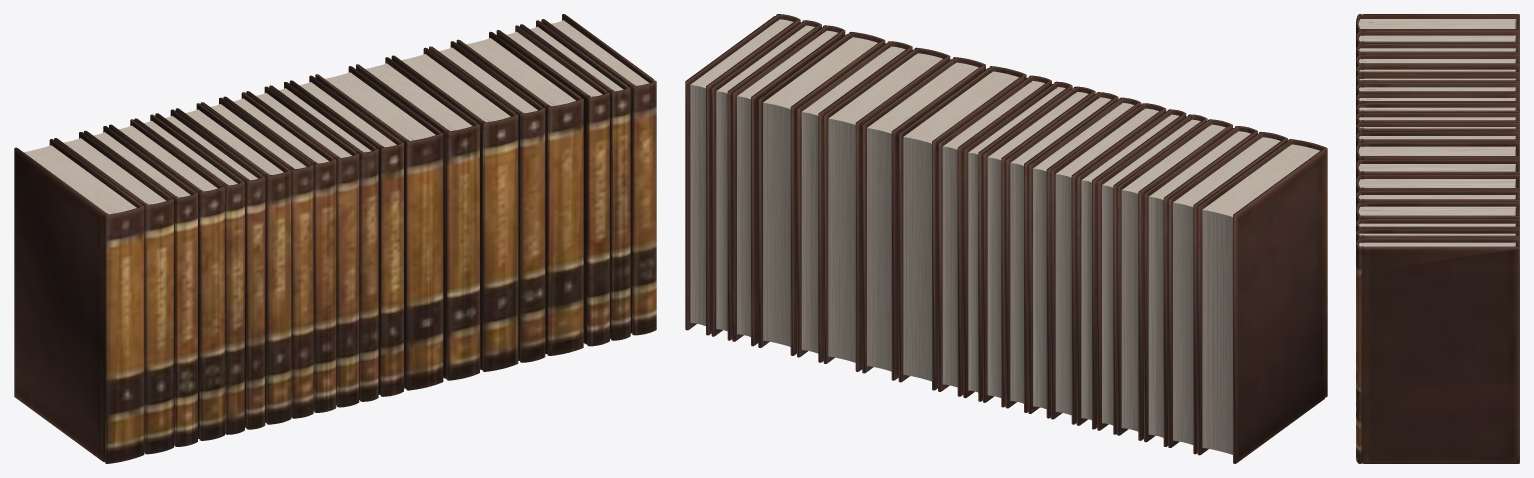
The model's file is book_encyclopedia_set_01.glb.
3 views of the same model, side by side, from view 1: azimuth 30°, elevation 25°; view 2: azimuth 150°, elevation 25°; view 3: azimuth 270°, elevation 25° (orthographic). The views are drawn at different scales.
Parts seen in each view (by area): view 1: book_encyclopedia_set_01_book01; view 2: book_encyclopedia_set_01_book01; view 3: book_encyclopedia_set_01_book01.
Part boxes in pixels (<box>): book_encyclopedia_set_01_book01: <box>14,14,656,463</box>; book_encyclopedia_set_01_book01: <box>685,14,1327,463</box>; book_encyclopedia_set_01_book01: <box>1356,14,1519,463</box>.
Size of the model in its own units: 0.5513 by 0.2374 by 0.1631.
Materials: 2 (2 with a texture image).
